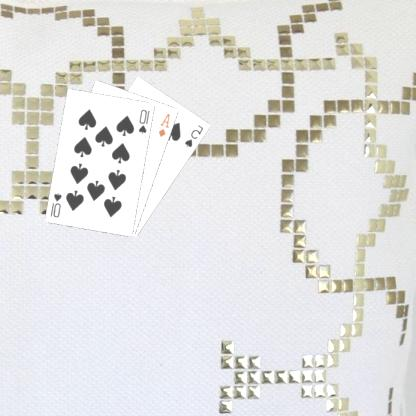10S: (138, 106, 153, 135), (50, 189, 64, 219)
5S: (184, 122, 207, 148)
AD: (158, 110, 173, 138)
